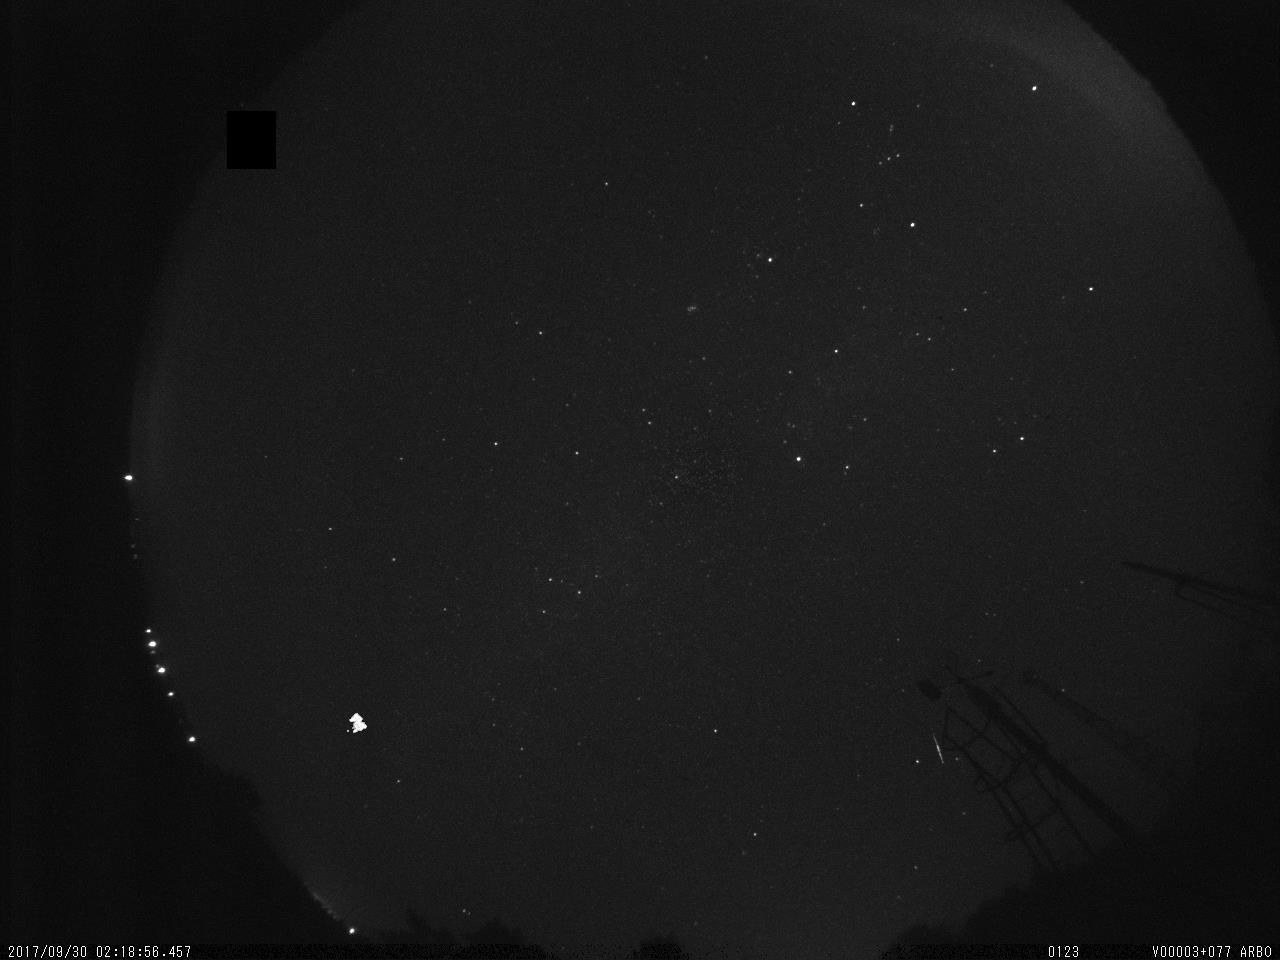TLE: (337, 709, 376, 736)
